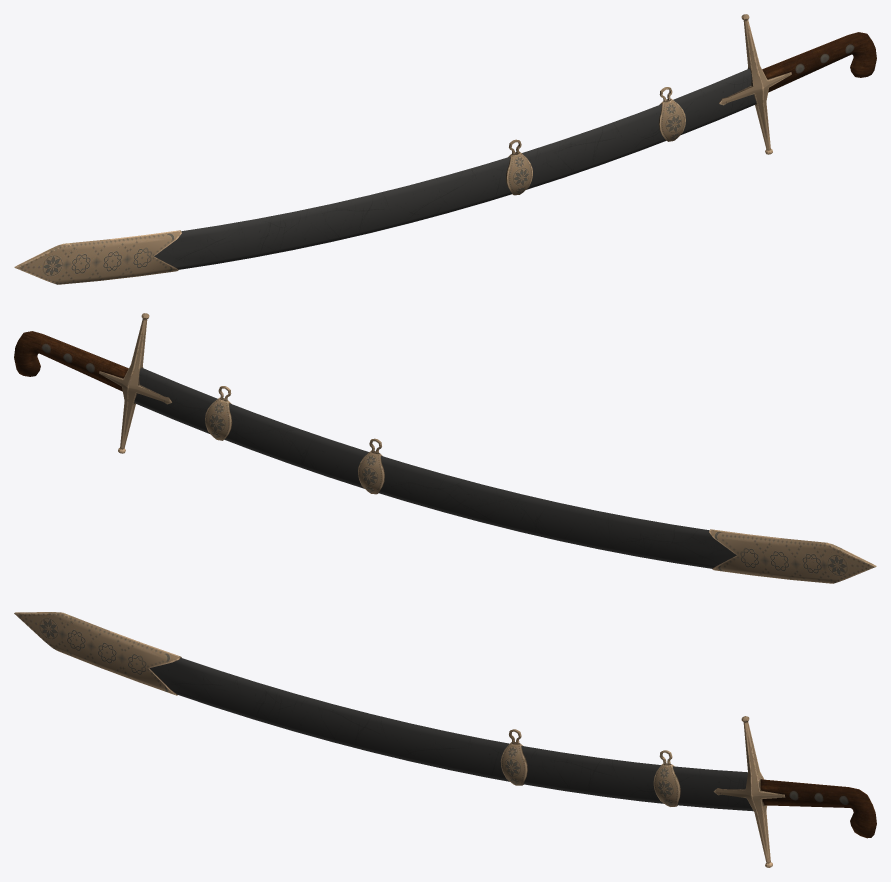
Rendered from arabic_sword.glb.
3 views of the same model, one above another, from view 1: azimuth 30°, elevation 25°; view 2: azimuth 150°, elevation 25°; view 3: azimuth 330°, elevation 25° (orthographic).
Visible parts, largest first — view 1: Plane001; view 2: Plane001; view 3: Plane001.
Part boxes in pixels (box(x1,y1,x2,y2)): Plane001: box(14, 14, 876, 284); Plane001: box(14, 313, 876, 583); Plane001: box(14, 612, 876, 867).
Size of the model in its own units: 183 by 29.51 by 4.28.
Materials: 1 (1 with a texture image).
